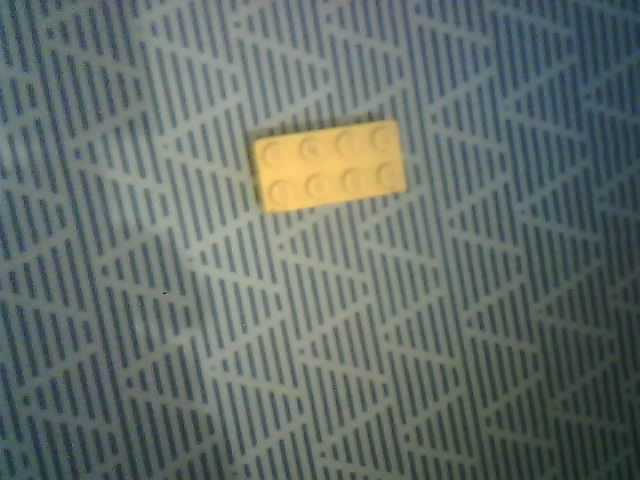lego: (248, 118, 408, 215)
